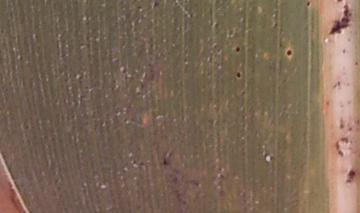tarspot: (283, 43, 295, 60), (131, 2, 146, 15), (232, 68, 245, 82), (158, 154, 171, 168), (232, 43, 245, 55), (150, 1, 162, 11), (303, 1, 314, 10)
